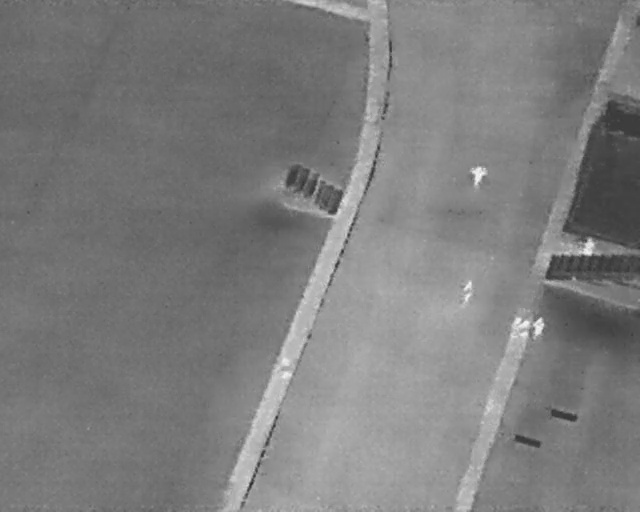Person: (529, 314, 548, 342), (469, 161, 487, 189), (278, 356, 293, 382), (582, 233, 596, 258), (518, 316, 532, 341), (460, 279, 474, 303), (510, 313, 520, 336)
